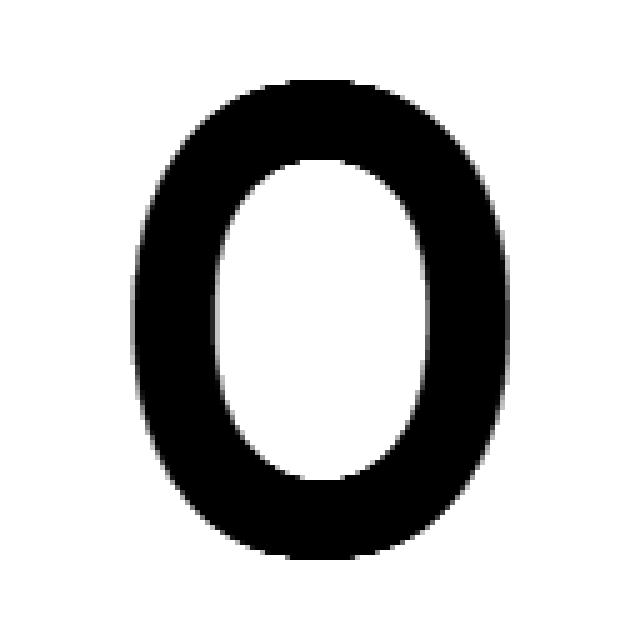O: (130, 80, 515, 565)
